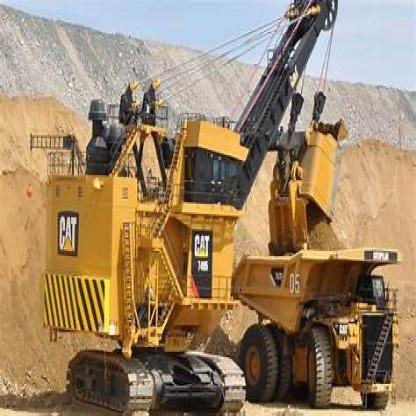dump_truck: (228, 231, 415, 414)
